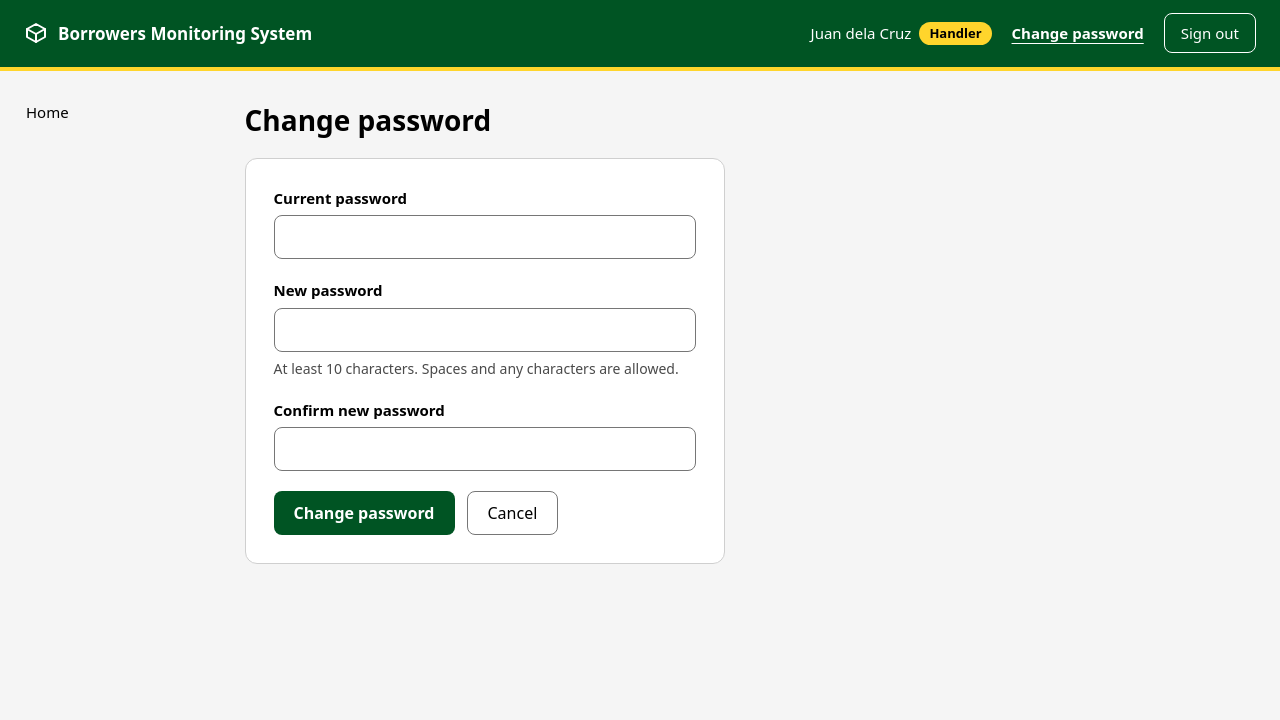
Test case: the password rule from ARCHITECTURE.md 5 is shown, and a short password is refused in the browser
Expected: the text "At least 10 characters. Spaces and any characters are allowed." is shown, [274,358,696,378]
Type "old-password-1" into the password field labelled "Current password" at [484, 237], box [274,215,696,259]
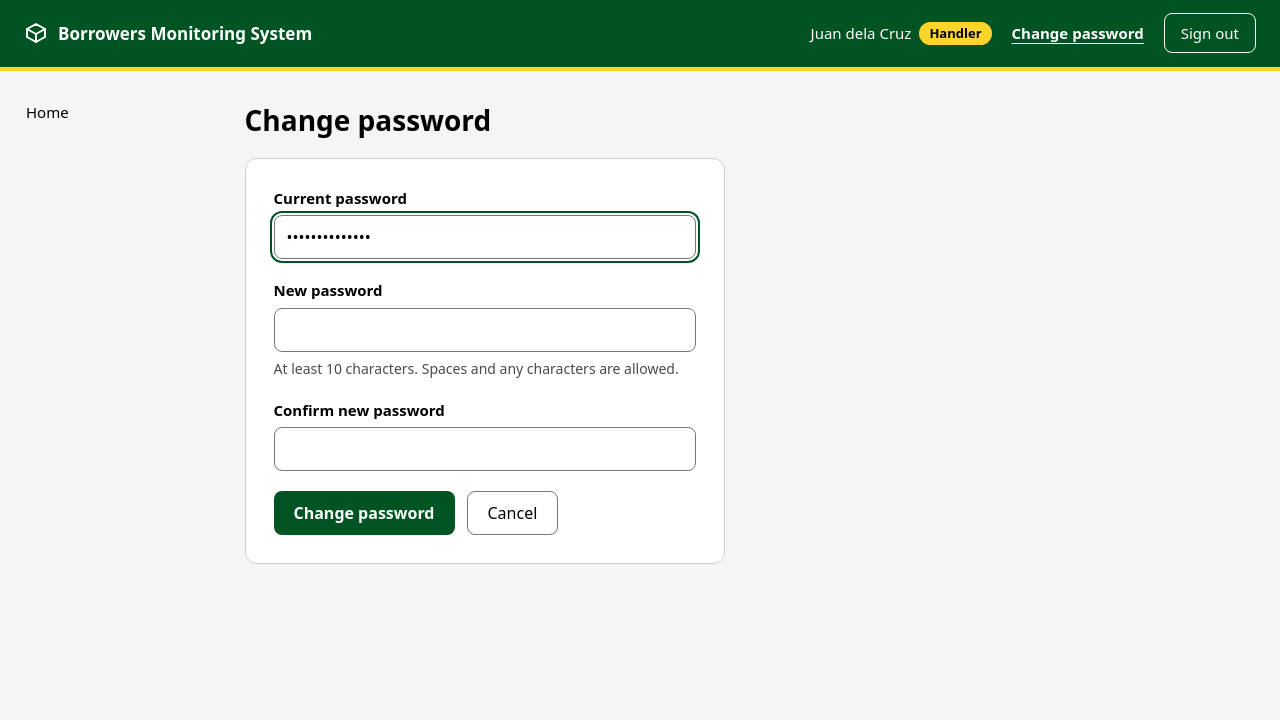
Type "short" into the password field labelled "New password" at [484, 330], box [274,308,696,352]
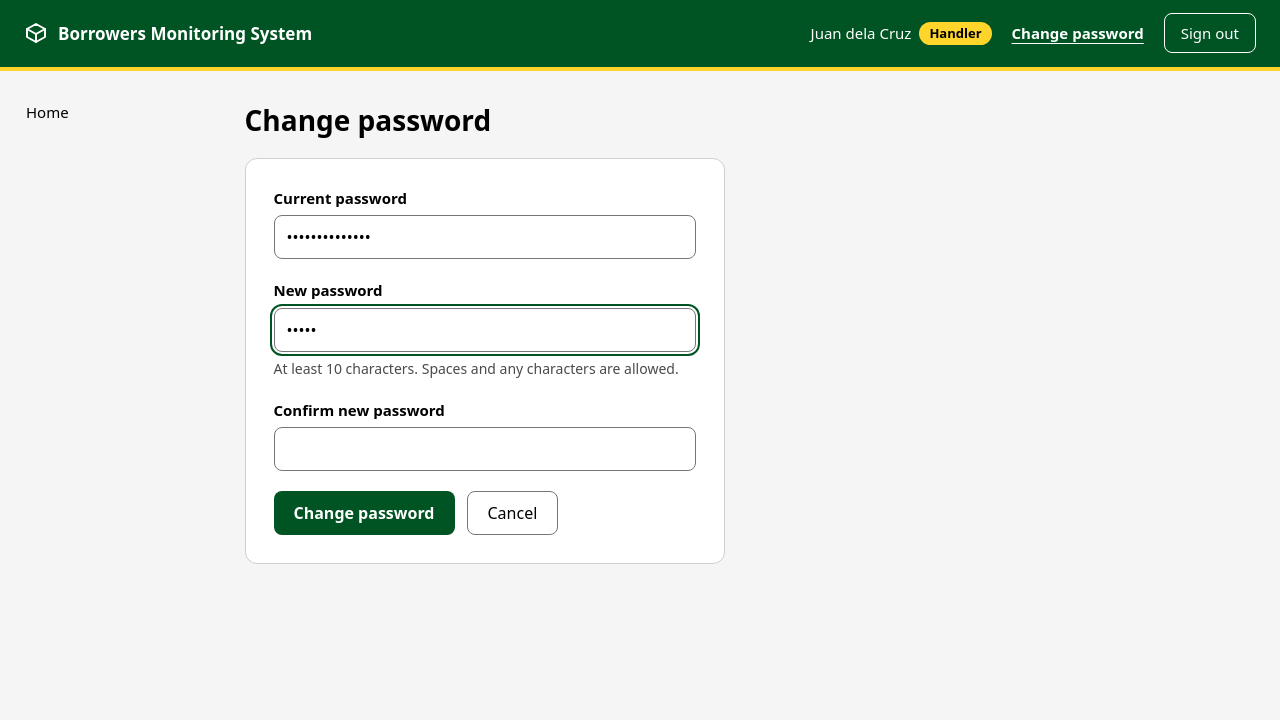
Type "short" into the password field labelled "Confirm new password" at [484, 449], box [274,427,696,471]
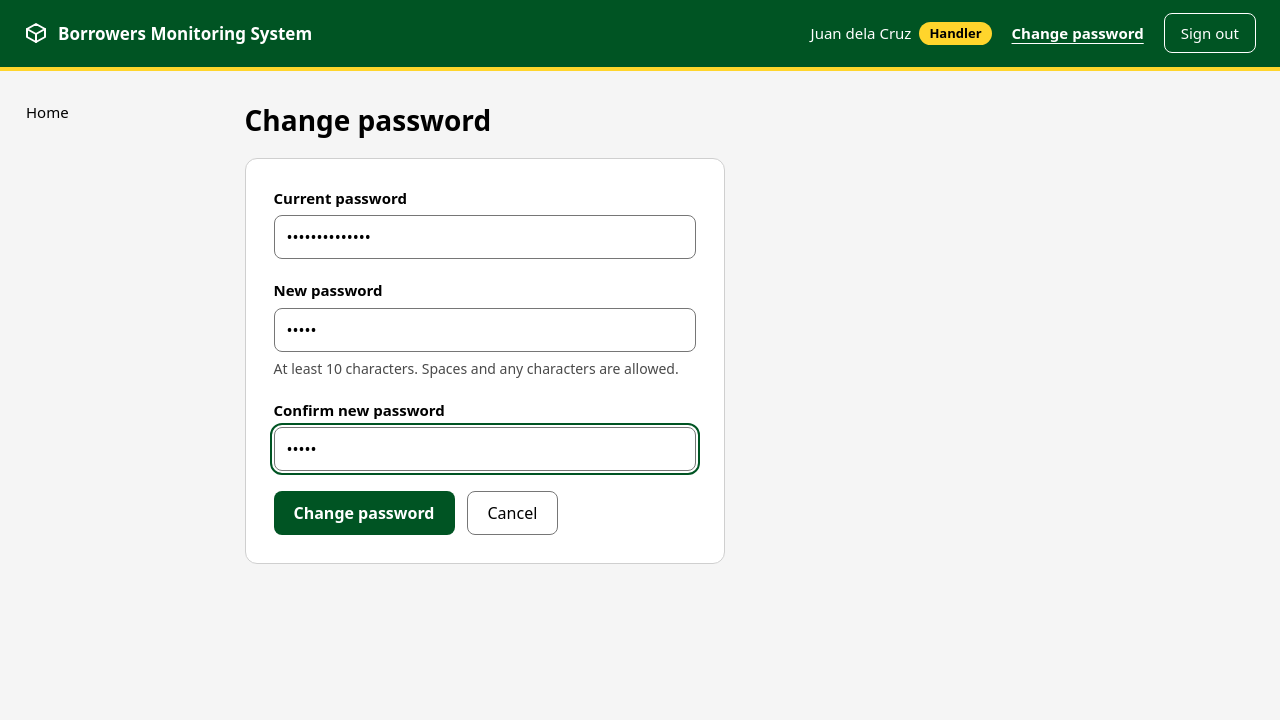
Click the button "Change password" at [364, 513], box [274,491,454,535]
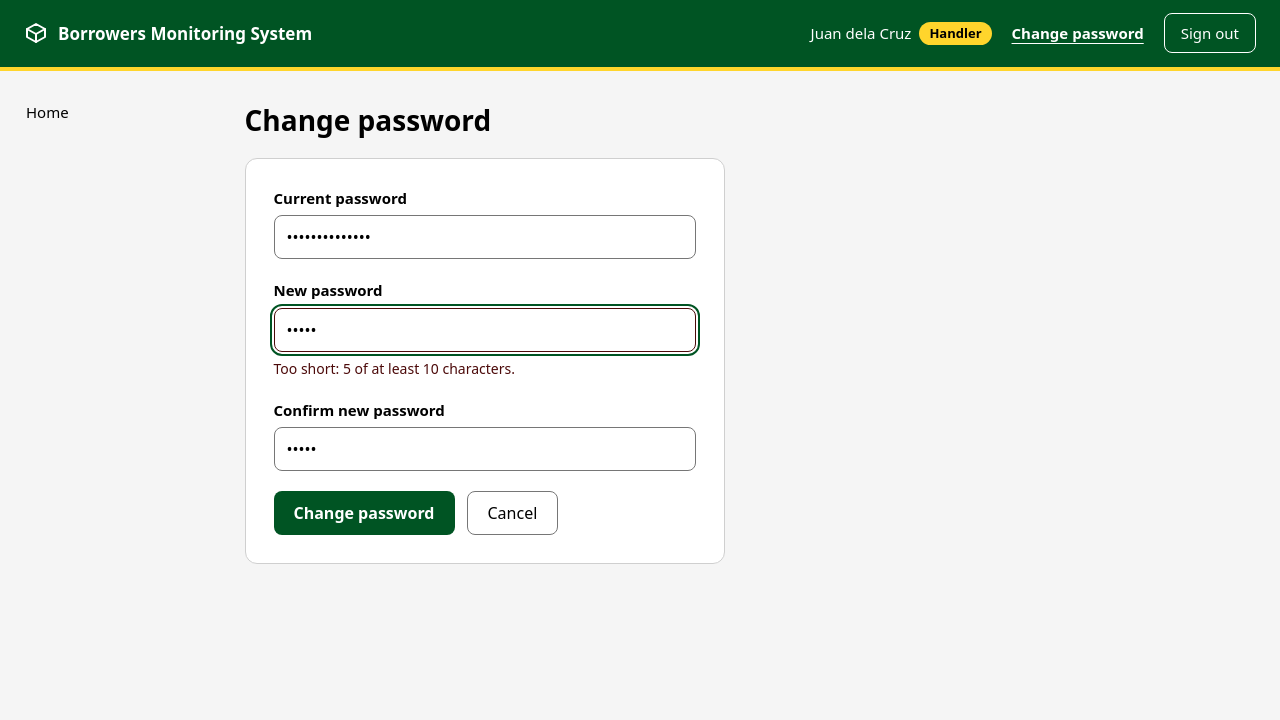
Expected: the text "Too short: 5 of at least 10 characters." is shown, [274,358,515,378]
